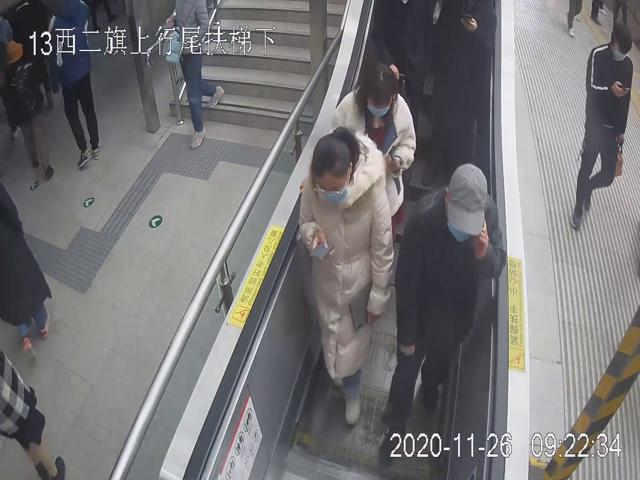person: (377, 160, 505, 464), (296, 123, 394, 424), (329, 60, 416, 236), (572, 18, 632, 231)
